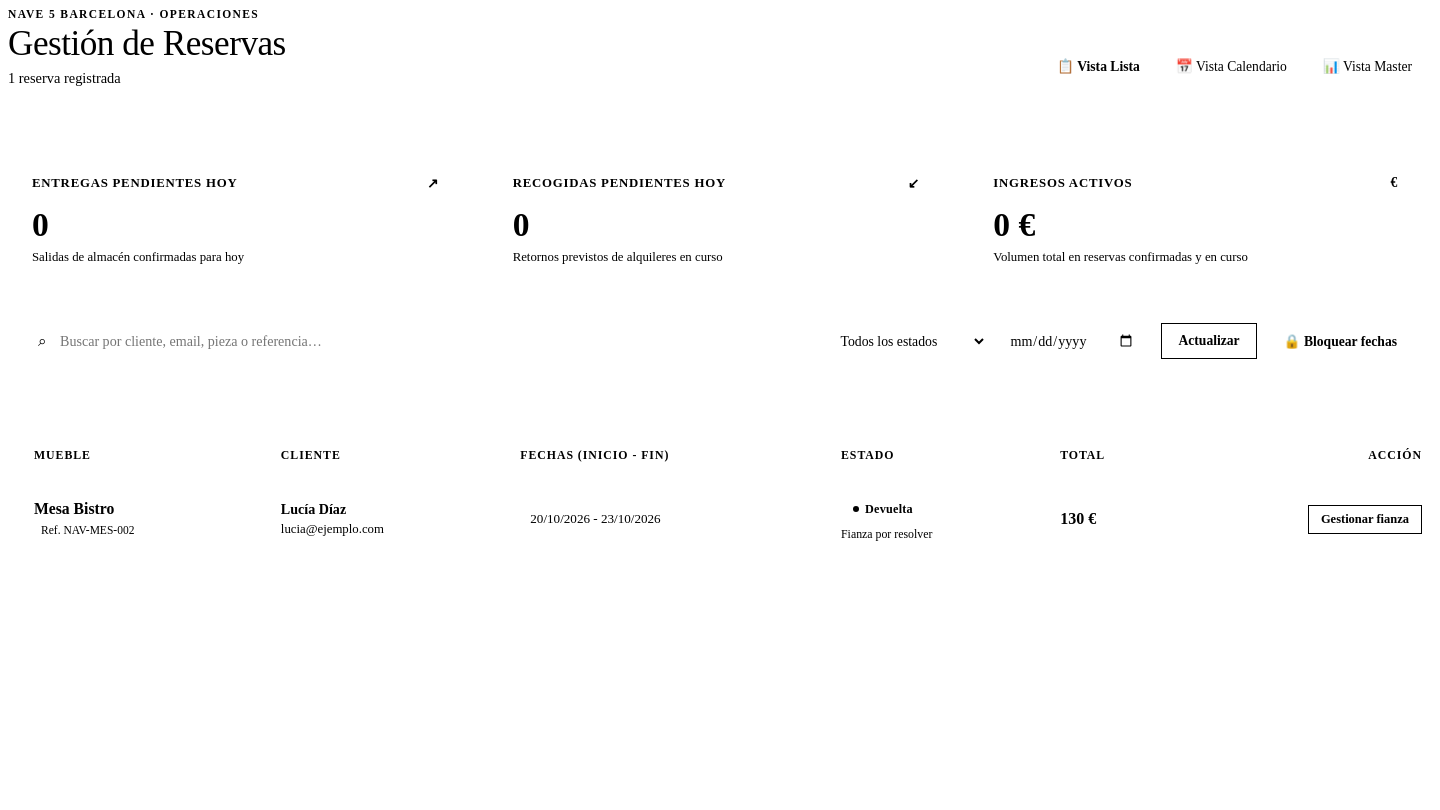
Test: ReservasTab — Gestionar fianza (R-e) › si el servidor responde con error, se ve en el modal, que sigue abierto
expect the text "Mesa Bistro" is shown: met, box [34,500,114,518]
Click the button "Gestionar fianza" at (1365, 520), box [1308,505,1422,534]
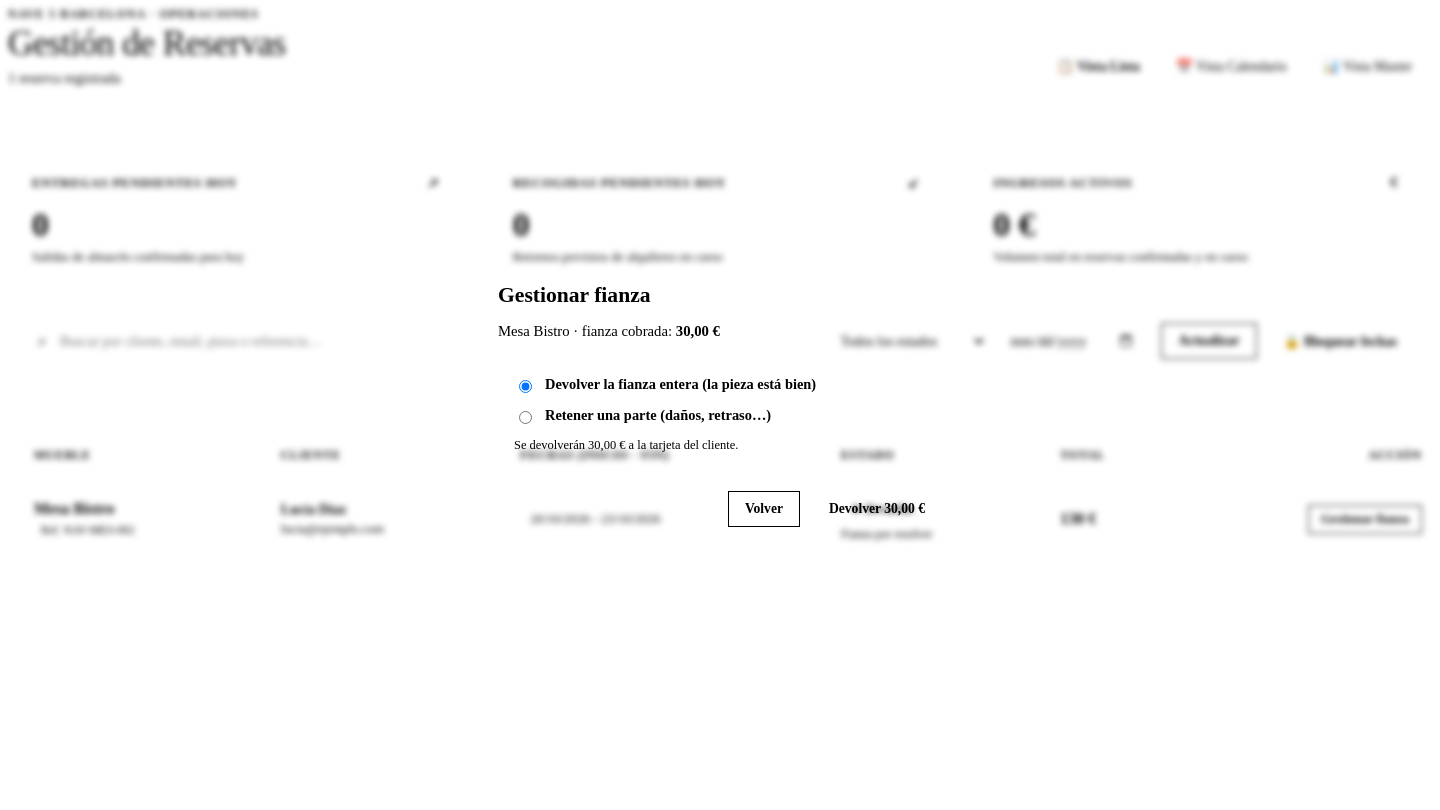
Click the button "Devolver 30,00 €" at (877, 509), box [812,491,942,527]
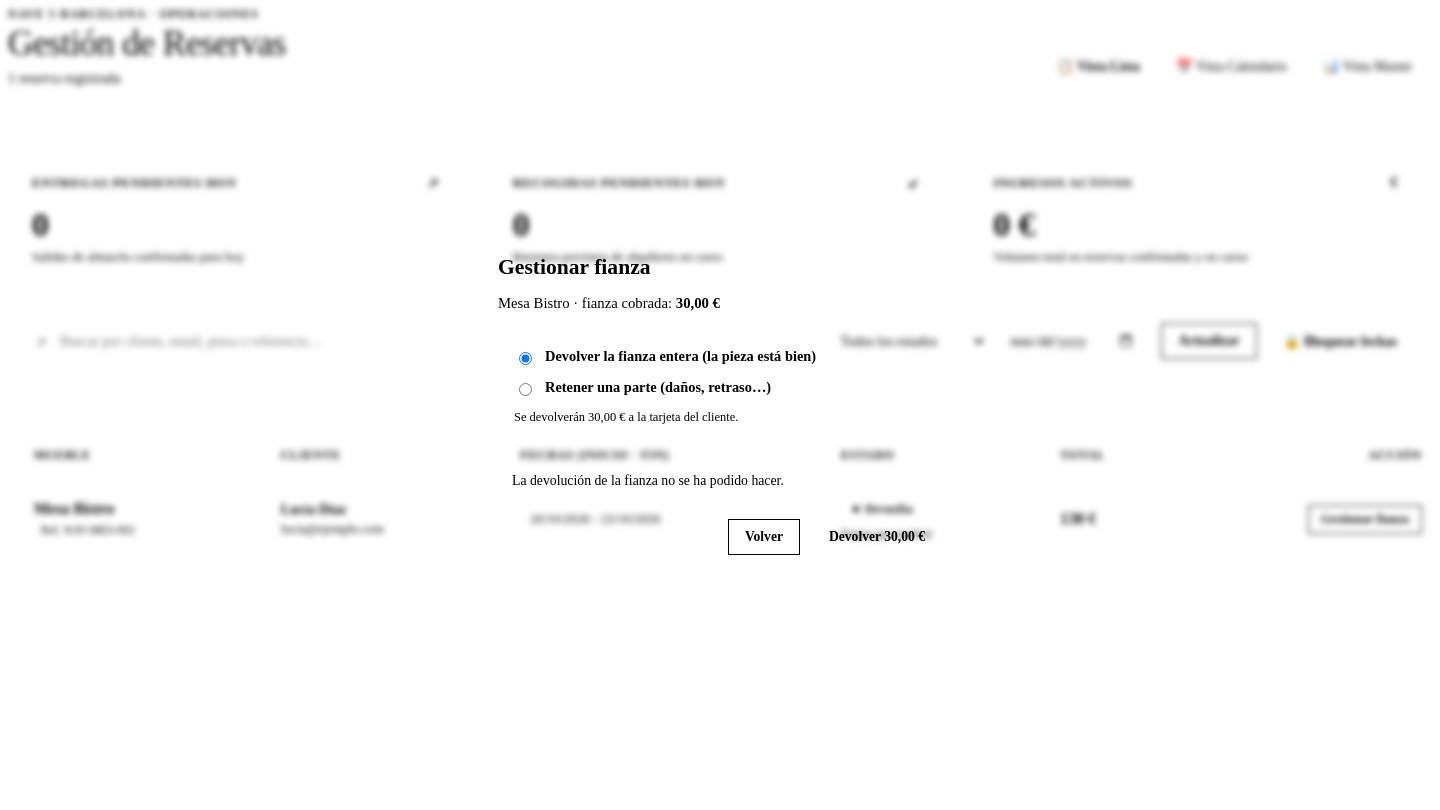
expect the dialog "Gestionar fianza" is shown: met, box [470,227,970,583]
expect the message reads "La devolución de la fianza no se ha podido hacer.": met, box [512,473,784,488]
